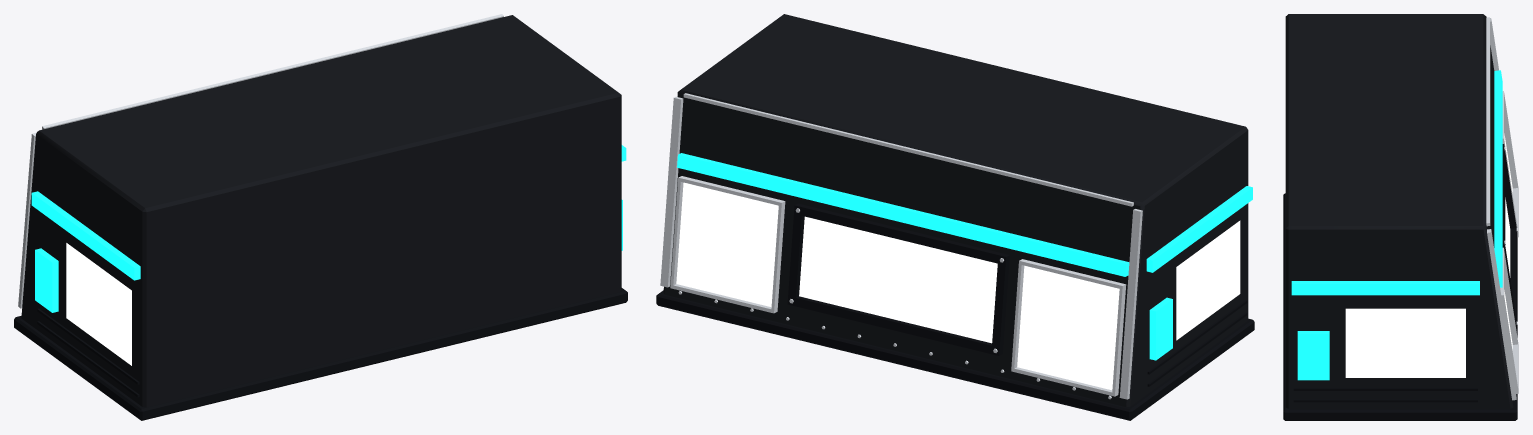
The model's file is deck_art_band.glb.
3 views of the same model, side by side, from view 1: azimuth 30°, elevation 25°; view 2: azimuth 150°, elevation 25°; view 3: azimuth 270°, elevation 25° (orthographic). The views are drawn at different scales.
Parts seen in each view (by area): view 1: deck_art_band_deco_body, deck_art_band_deco_trim, deck_art_band_acrylic_art, deck_art_band_deco_neon, deck_art_band_chrome; view 2: deck_art_band_deco_body, deck_art_band_acrylic_art, deck_art_band_deco_trim, deck_art_band_acrylic_sign, deck_art_band_chrome, deck_art_band_deco_neon; view 3: deck_art_band_deco_body, deck_art_band_acrylic_art, deck_art_band_deco_trim, deck_art_band_deco_neon, deck_art_band_chrome, deck_art_band_acrylic_sign.
Boxes of the visible parts, x1,y1,x2,y2 form: deck_art_band_deco_body: (21,15,621,407); deck_art_band_deco_trim: (14,288,627,420); deck_art_band_acrylic_art: (66,243,131,365); deck_art_band_deco_neon: (31,145,626,312); deck_art_band_chrome: (18,14,503,308); deck_art_band_deco_body: (663,14,1248,407); deck_art_band_acrylic_art: (676,182,1240,390); deck_art_band_deco_trim: (656,203,1254,420); deck_art_band_acrylic_sign: (799,216,997,343); deck_art_band_chrome: (660,93,1142,399); deck_art_band_deco_neon: (677,153,1252,360); deck_art_band_deco_body: (1285,14,1513,408); deck_art_band_acrylic_art: (1345,133,1512,377); deck_art_band_deco_trim: (1283,144,1517,420); deck_art_band_deco_neon: (1291,70,1502,380); deck_art_band_chrome: (1486,17,1518,400); deck_art_band_acrylic_sign: (1505,197,1510,277).
Size of the model in its own units: 2.16 by 0.88 by 0.9753.
